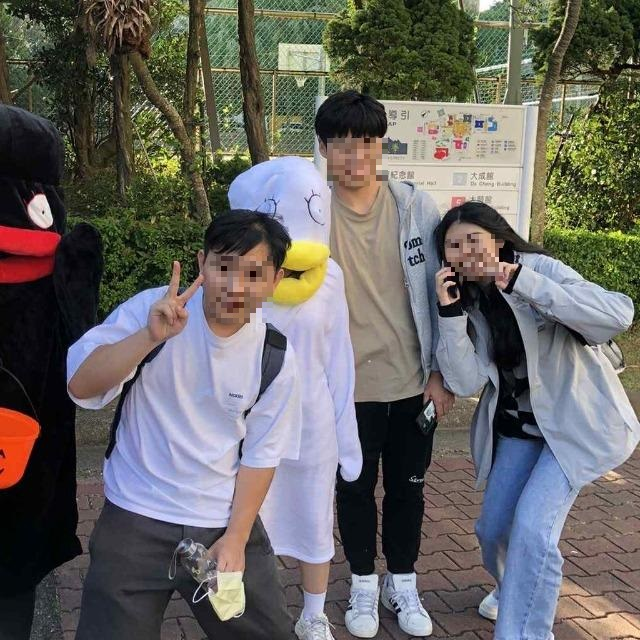NoHelmet: (199, 209, 293, 326), (312, 88, 391, 184)
NoVest: (117, 286, 296, 531), (317, 179, 450, 402)
